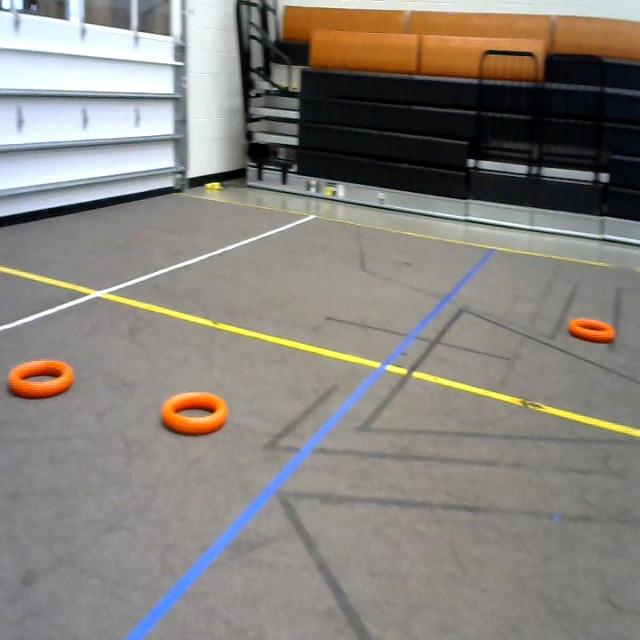note: (4, 354, 77, 420), (161, 383, 230, 440), (569, 314, 619, 357)
